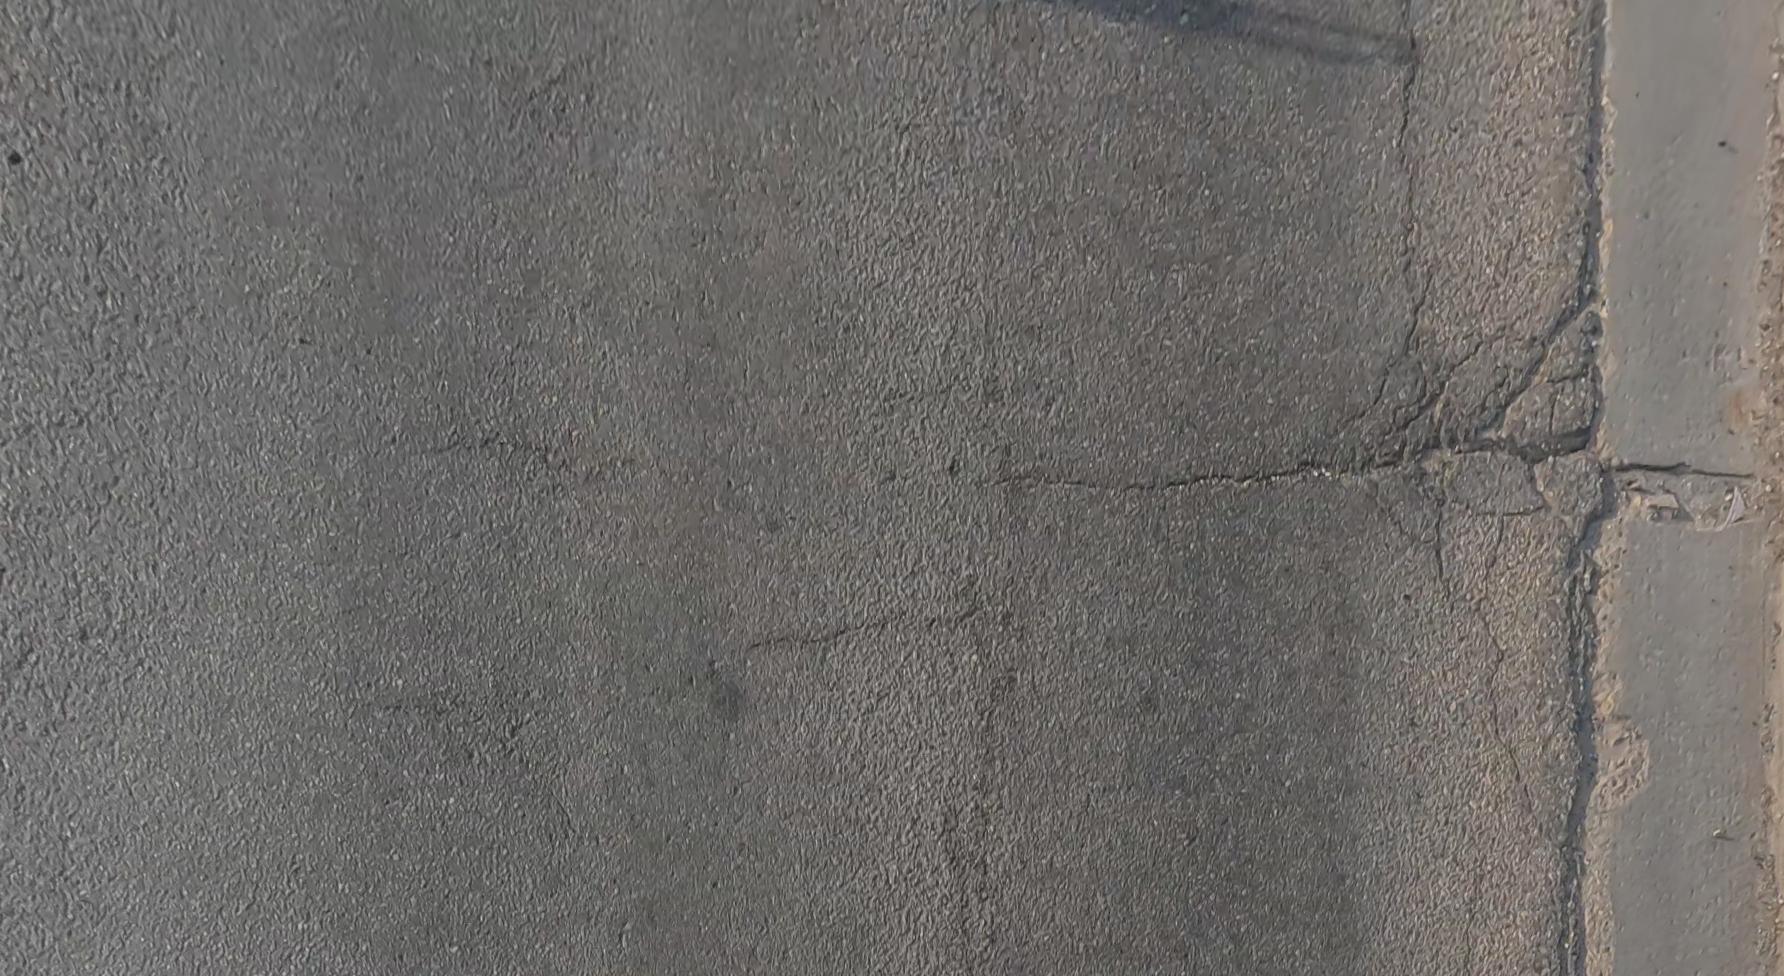pothole: (1413, 444, 1462, 478)
